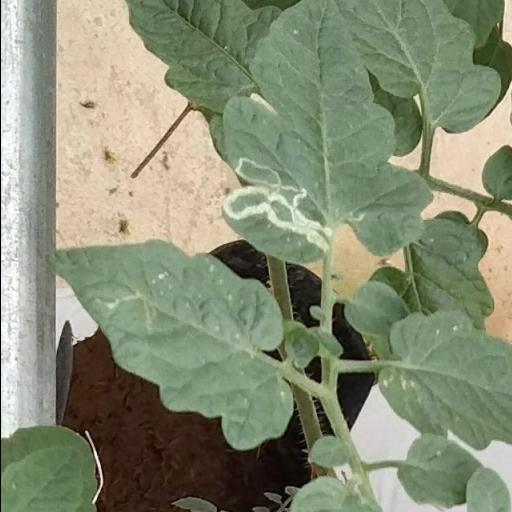Leaf Miner: (215, 0, 432, 265)
